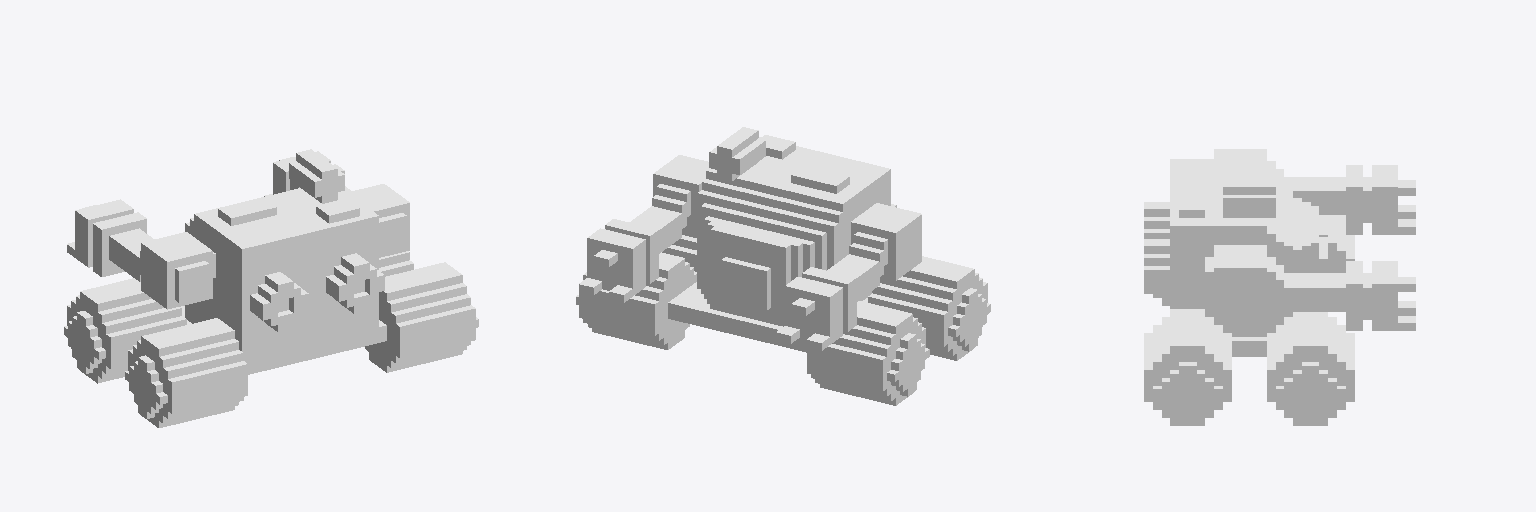
Rendered from MoneyRobot.obj.
3 renders of one model, left to right at view 1: azimuth 30°, elevation 25°; view 2: azimuth 150°, elevation 25°; view 3: azimuth 270°, elevation 25°, orthographic.
Size of the model in its own units: 42 by 24 by 31.